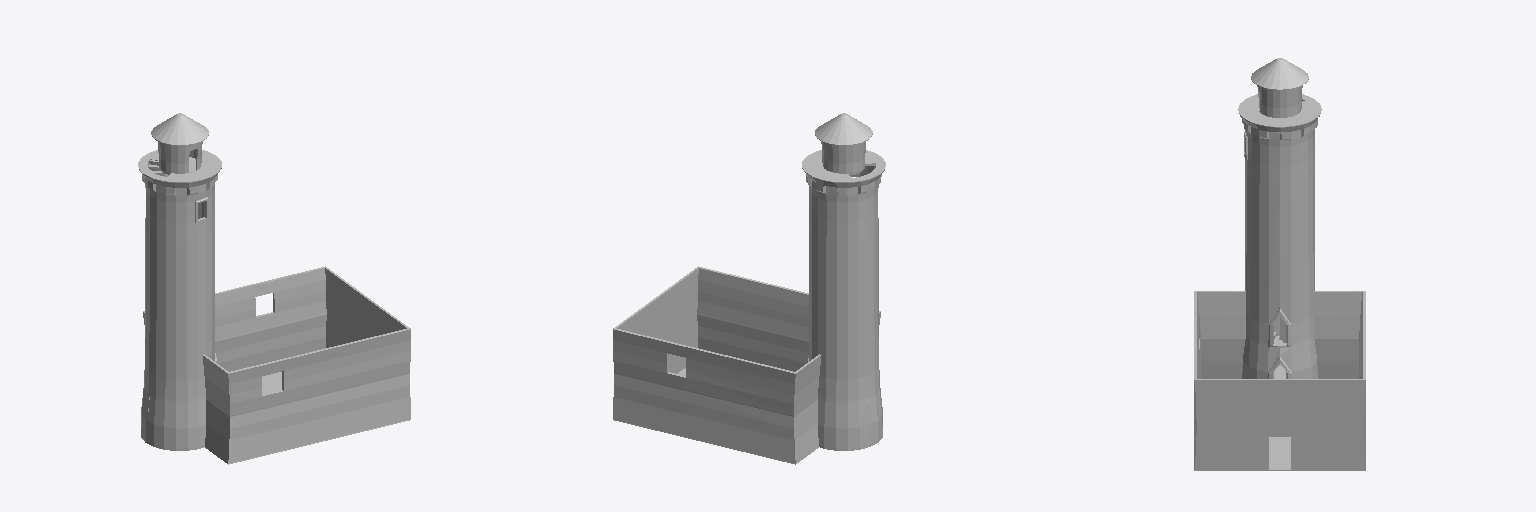
The model's file is light2.obj.
3 renders of one model, left to right at view 1: azimuth 30°, elevation 25°; view 2: azimuth 150°, elevation 25°; view 3: azimuth 270°, elevation 25°, orthographic.
Visible parts, largest first — view 1: pCube13, lighthouse1 pCylinder11; view 2: pCube13, lighthouse1 pCylinder11; view 3: pCube13, lighthouse1 pCylinder11.
Part boxes in pixels (x1,y1,x2,y2): pCube13: (143, 266, 410, 464); lighthouse1 pCylinder11: (138, 113, 221, 450); pCube13: (613, 266, 880, 464); lighthouse1 pCylinder11: (802, 113, 885, 450); pCube13: (1194, 291, 1365, 470); lighthouse1 pCylinder11: (1238, 58, 1321, 378).
Size of the model in its own units: 28 by 38.04 by 18.47.